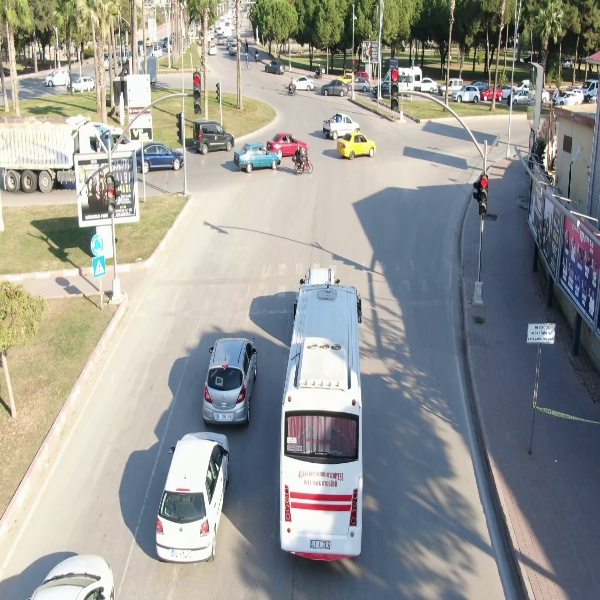car: (152, 428, 234, 565), (201, 338, 260, 427), (232, 139, 282, 173), (190, 117, 233, 155), (335, 128, 378, 159), (451, 84, 482, 106), (65, 74, 97, 95), (320, 78, 351, 98), (44, 68, 70, 90), (264, 58, 288, 76), (291, 75, 316, 91)
